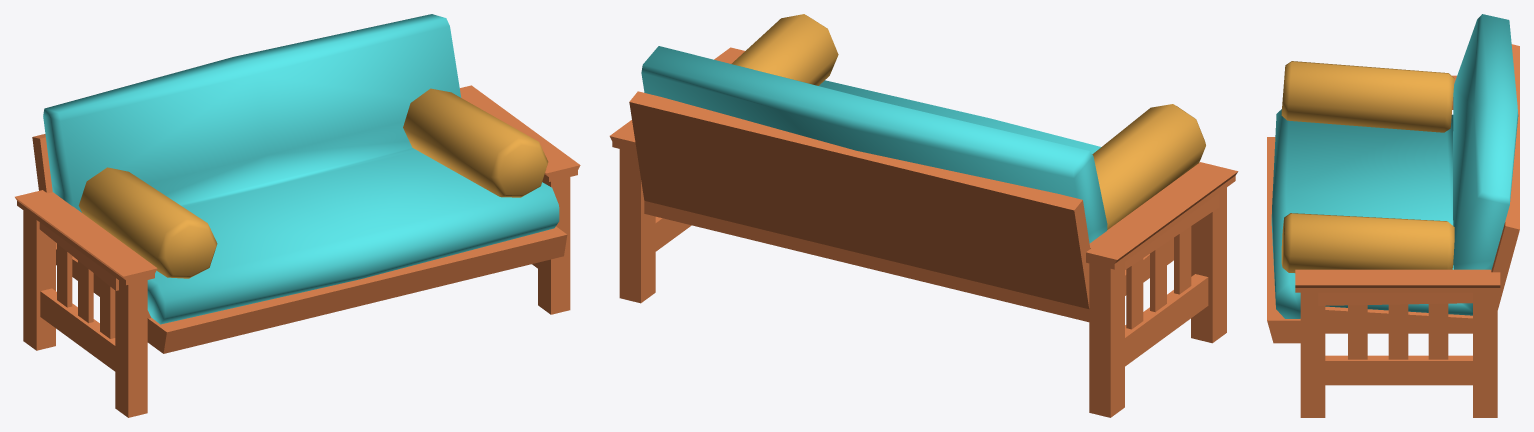
The model's file is Sofa.fbx.
The picture shows the model from 3 angles, left to right: view 1: azimuth 30°, elevation 25°; view 2: azimuth 150°, elevation 25°; view 3: azimuth 270°, elevation 25°; orthographic projection. The views are drawn at different scales.
Visible parts, largest first — view 1: Plane, pillow.001, pillow; view 2: Plane, pillow, pillow.001; view 3: Plane, pillow, pillow.001.
Boxes of the visible parts, box(x1,y1,x2,y2) form: Plane: box(15, 14, 580, 417); pillow.001: box(403, 88, 548, 197); pillow: box(78, 167, 217, 278); Plane: box(609, 46, 1238, 417); pillow: box(1092, 104, 1205, 229); pillow.001: box(731, 14, 838, 85); Plane: box(1267, 14, 1519, 417); pillow: box(1281, 61, 1454, 132); pillow.001: box(1281, 213, 1454, 272).
Bounding box in the file's own units: 1555 × 746 × 794.
